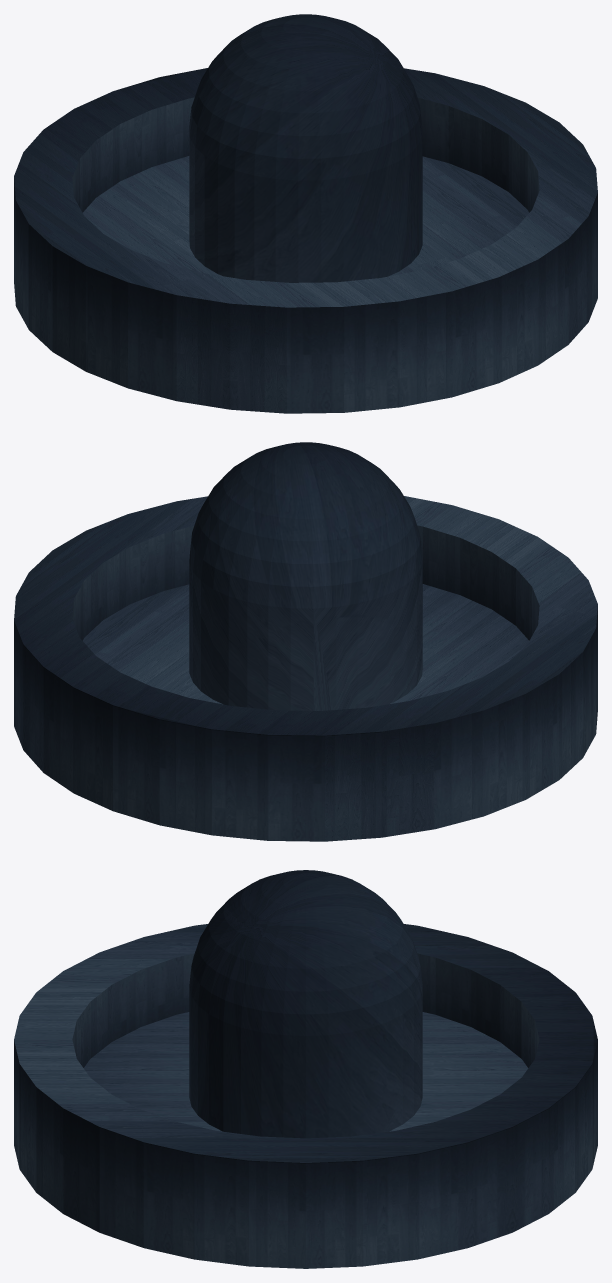
Rendered from round_paddle.obj.
The picture shows the model from 3 angles, top to bottom: view 1: azimuth 30°, elevation 25°; view 2: azimuth 150°, elevation 25°; view 3: azimuth 270°, elevation 25°; orthographic projection.
Visible parts, largest first — view 1: Cylinder.001; view 2: Cylinder.001; view 3: Cylinder.001.
Part boxes in pixels (<box>): Cylinder.001: <box>14,14,597,413</box>; Cylinder.001: <box>14,442,597,841</box>; Cylinder.001: <box>14,870,597,1268</box>.
Size of the model in its own units: 1.25 by 0.625 by 1.25.
Materials: 1 (1 with a texture image).
